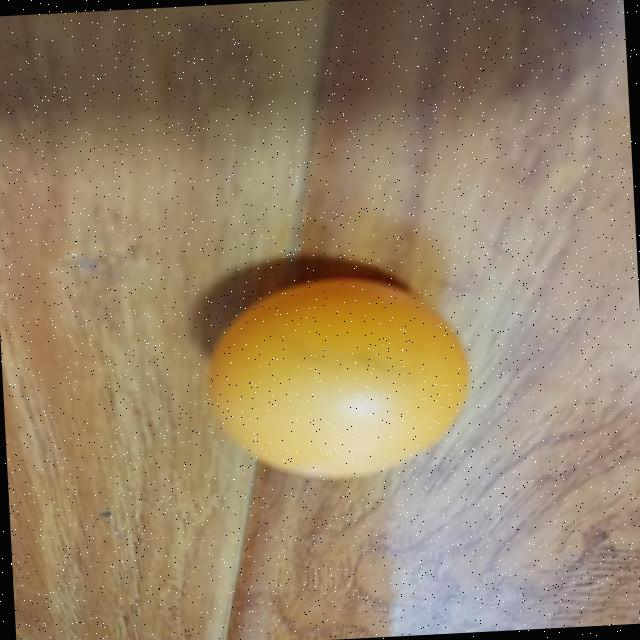ping-pong-ball: (206, 274, 474, 483)
